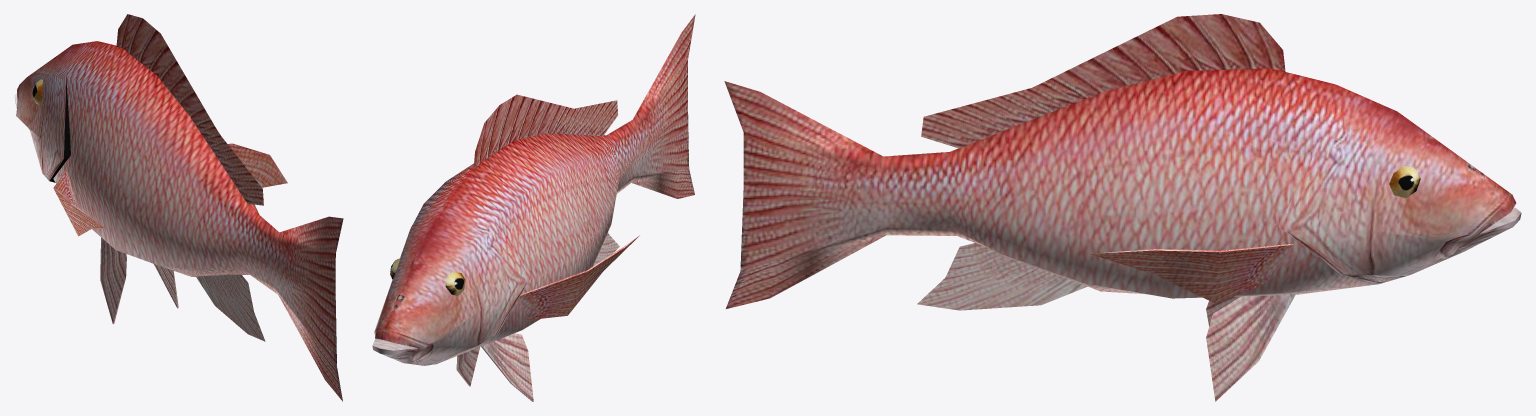
The model's file is SG_obj_RedSnapper.FBX.
3 renders of one model, left to right at view 1: azimuth 30°, elevation 25°; view 2: azimuth 150°, elevation 25°; view 3: azimuth 270°, elevation 25°, orthographic. The views are drawn at different scales.
Parts seen in each view (by area): view 1: SG_obj_RedSnapper; view 2: SG_obj_RedSnapper; view 3: SG_obj_RedSnapper.
Part boxes in pixels (<box>): SG_obj_RedSnapper: <box>14,14,343,401</box>; SG_obj_RedSnapper: <box>372,14,695,401</box>; SG_obj_RedSnapper: <box>724,14,1521,401</box>.
Size of the model in its own units: 190 by 270 by 530.
